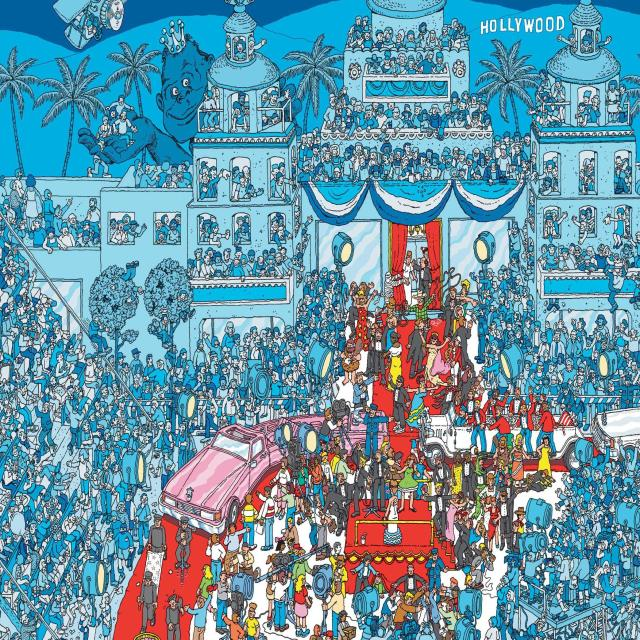waldo: (421, 247, 429, 259)
